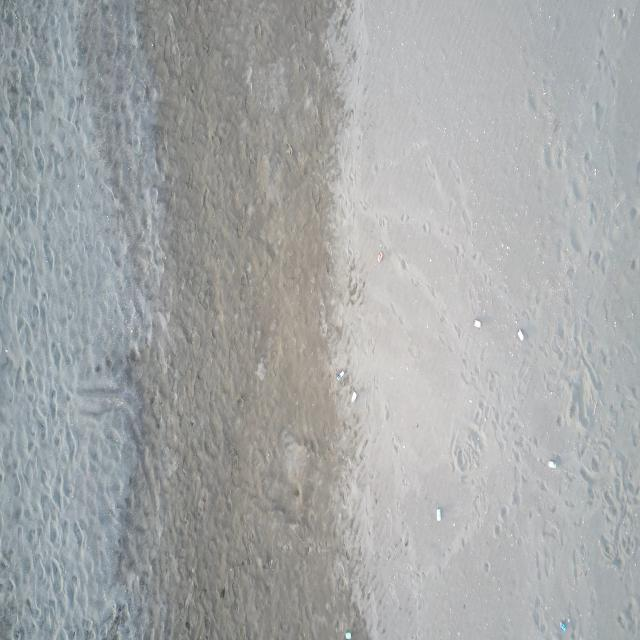tin-and-aluminum-cans: (517, 328, 525, 344), (350, 388, 358, 404), (436, 506, 443, 523), (336, 370, 346, 381), (376, 250, 384, 263), (548, 459, 558, 469), (473, 318, 482, 329), (558, 621, 566, 633), (344, 630, 352, 640)
